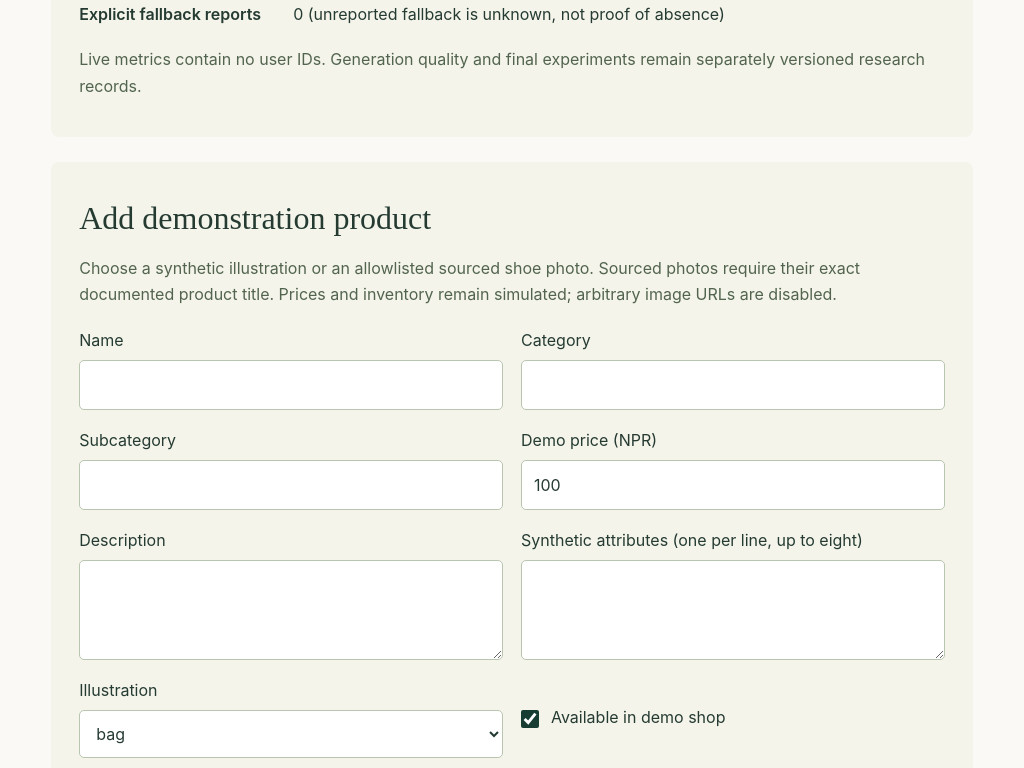
Scenario: creates a demo product through the administrator form without assigning a research ID
(page scrolled)
Type "Demo tea mug" into the field labelled "Name". click: (291, 385)
box: [79,360,503,410]
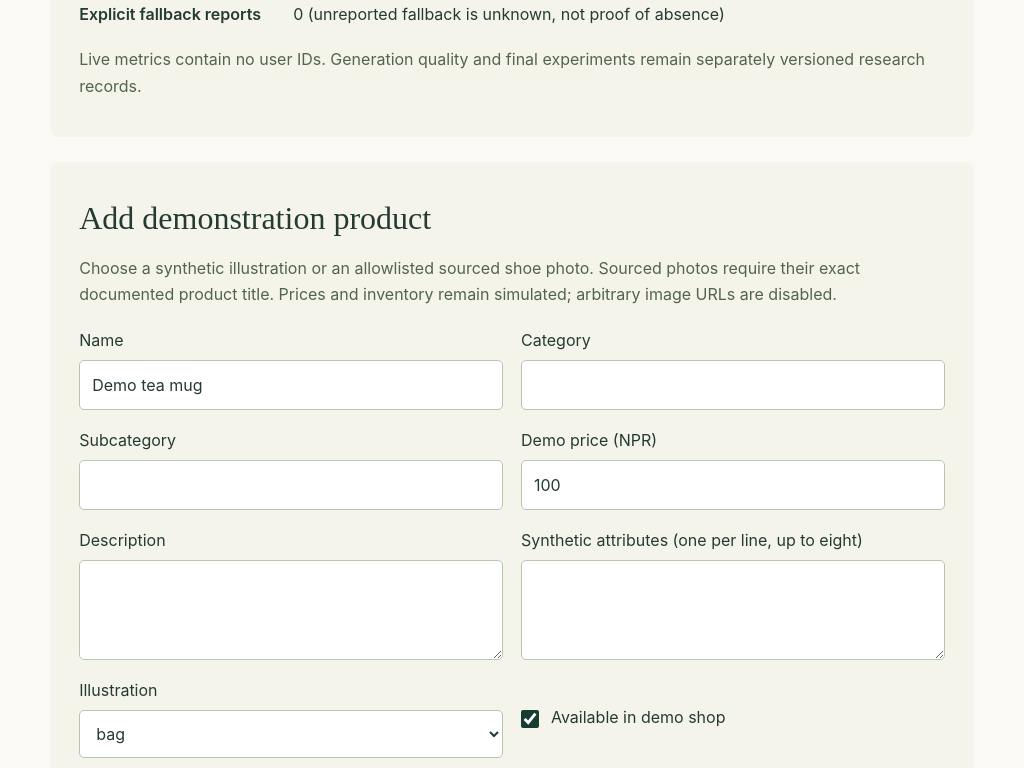
Type "Home" into the field labelled "Category". click: (733, 385)
box: [521,360,945,410]
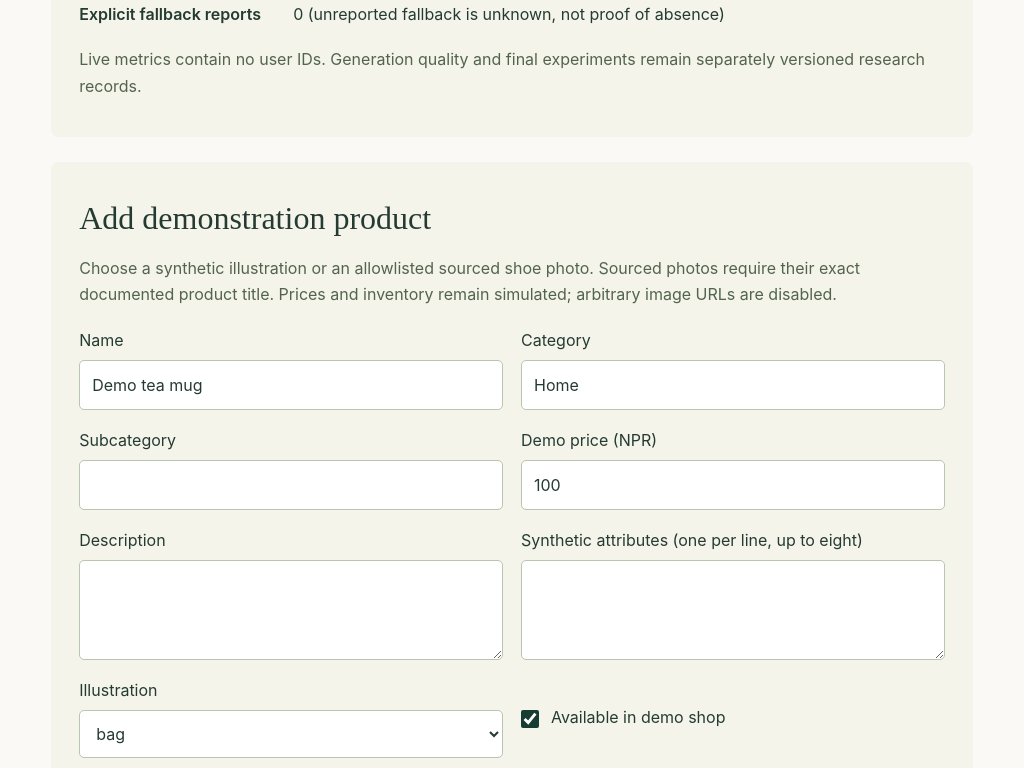
Type "Mugs" into the field labelled "Subcategory". click: (291, 485)
box: [79,460,503,510]
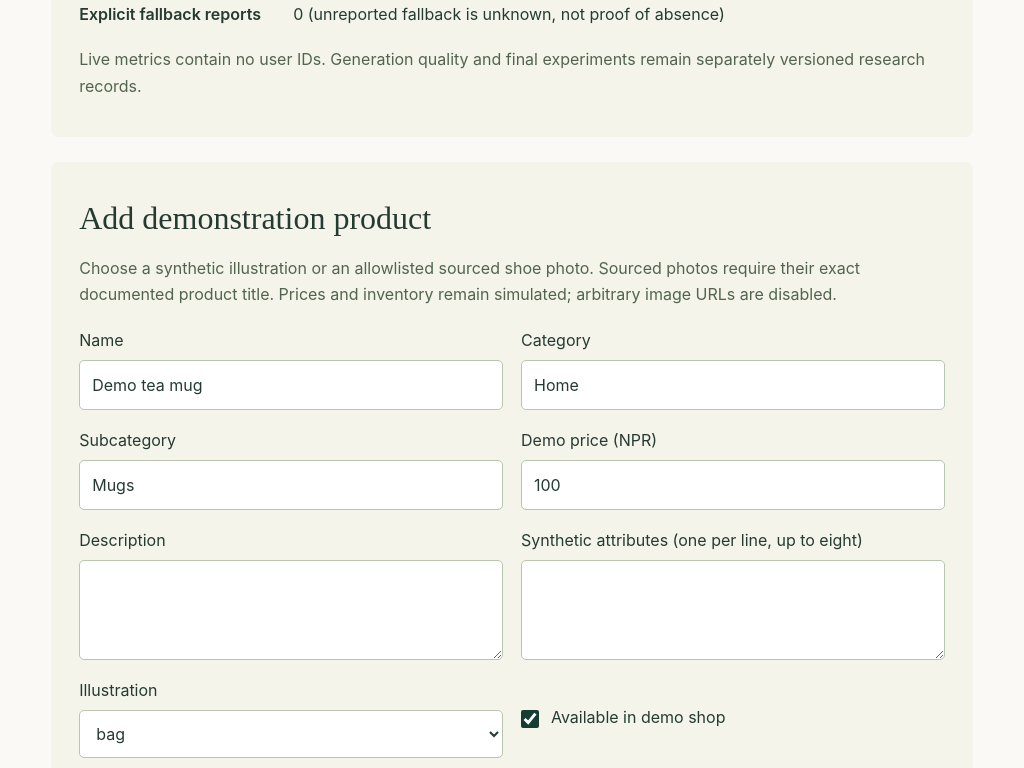
Type "An explicitly synthetic test product." into the text box labelled "Description". click: (291, 610)
box: [79,560,503,660]
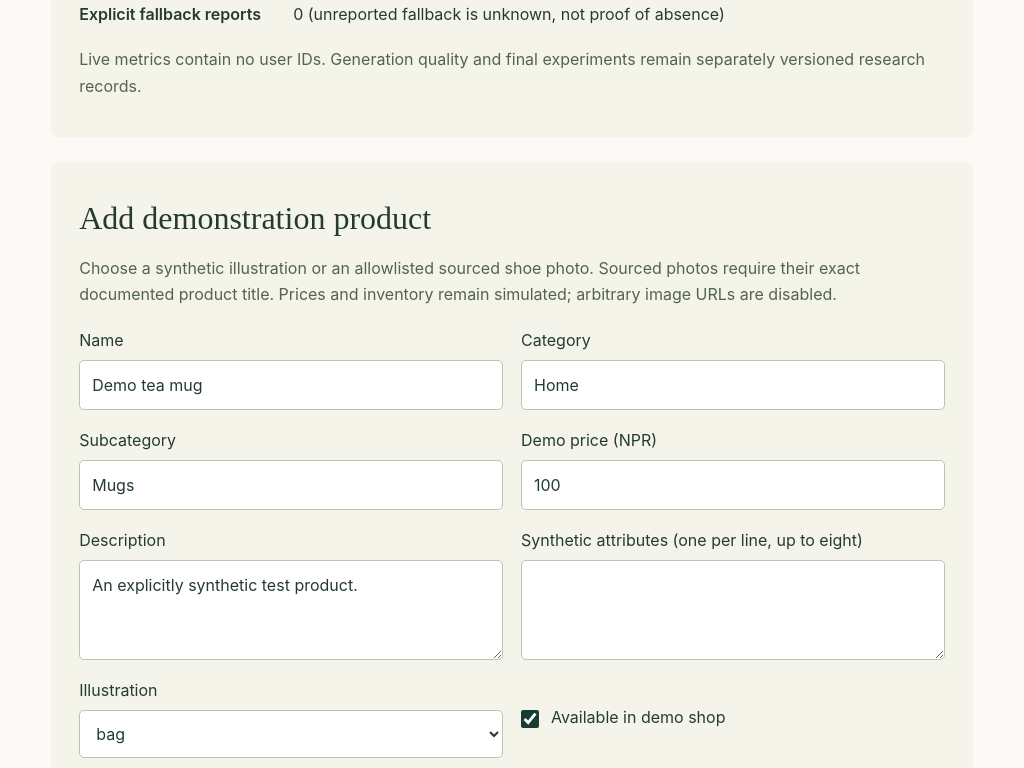
Select "mug" in the dropdown labelled "Illustration". click: (291, 734)
box: [79,710,503,758]
(page scrolled)
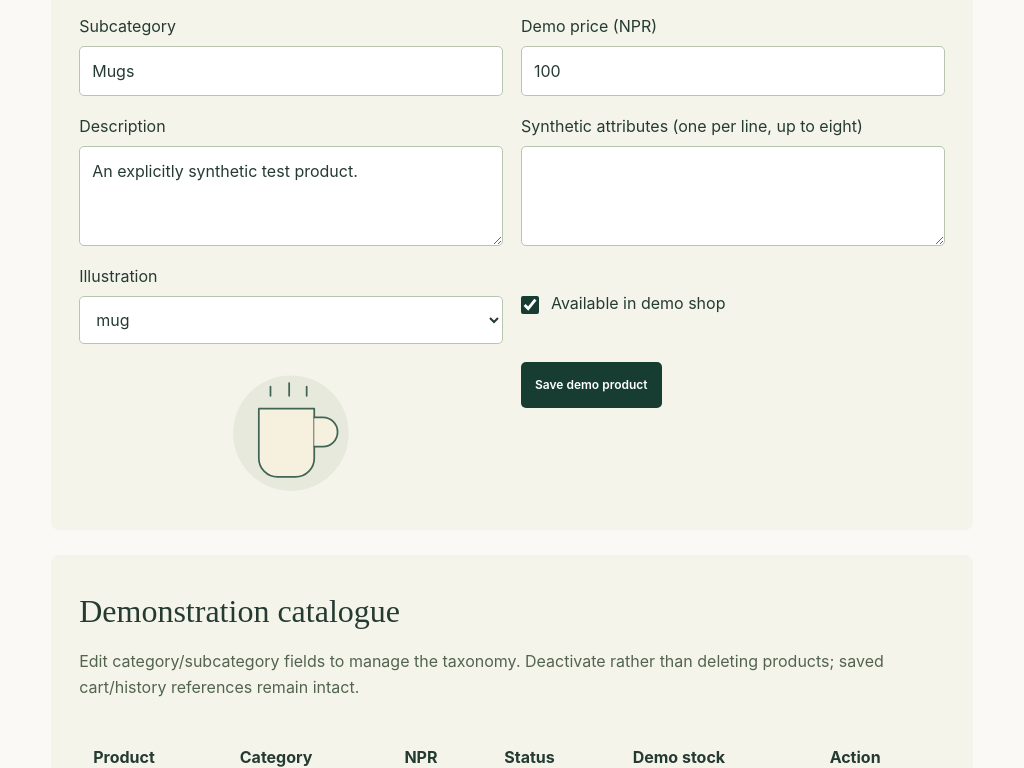
Click the button "Save demo product". click: click(591, 385)
box: [521,362,662,408]
(page scrolled)
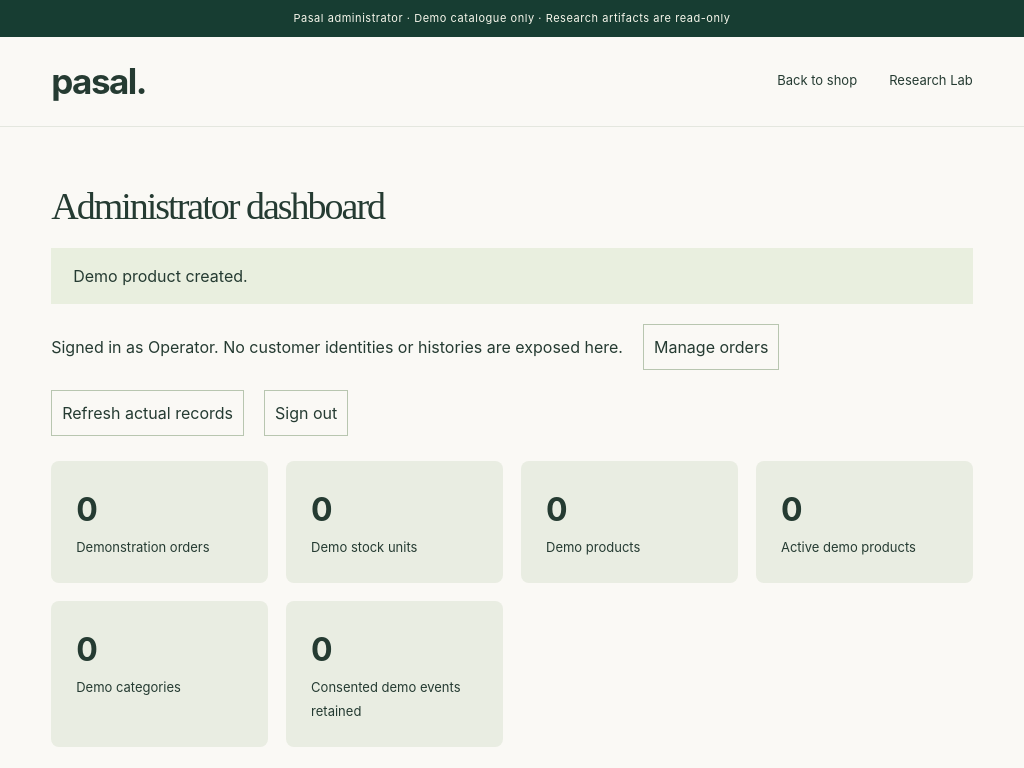
Expected: the text "Demo product created." is shown, [51,248,973,304]
